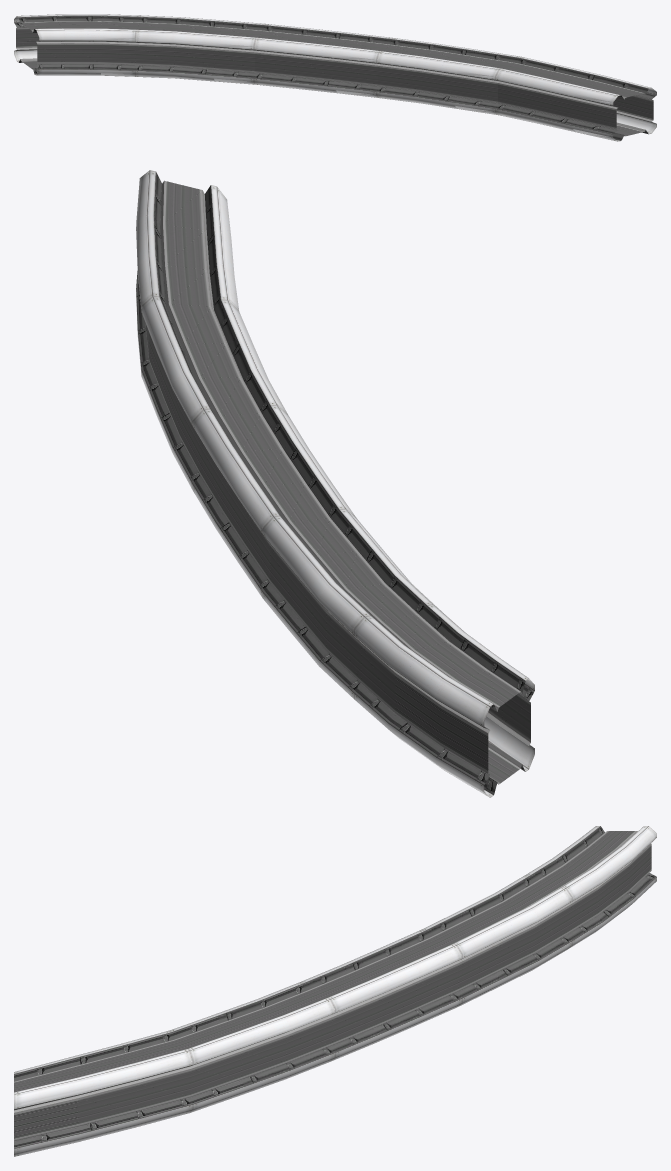
The model's file is CeilingBrace_1x6 CURVE.fbx.
3 renders of one model, top to bottom at view 1: azimuth 30°, elevation 25°; view 2: azimuth 150°, elevation 25°; view 3: azimuth 270°, elevation 25°, orthographic. The views are drawn at different scales.
Visible parts, largest first — view 1: CeilingBrace_1x3.002; view 2: CeilingBrace_1x3.002; view 3: CeilingBrace_1x3.002.
Part boxes in pixels (box(x1,y1,x2,y2)): CeilingBrace_1x3.002: box(14, 14, 656, 141); CeilingBrace_1x3.002: box(136, 170, 534, 797); CeilingBrace_1x3.002: box(14, 826, 656, 1156).
Size of the model in its own units: 1216 by 130 by 1215.
1 material, 1 textured.
